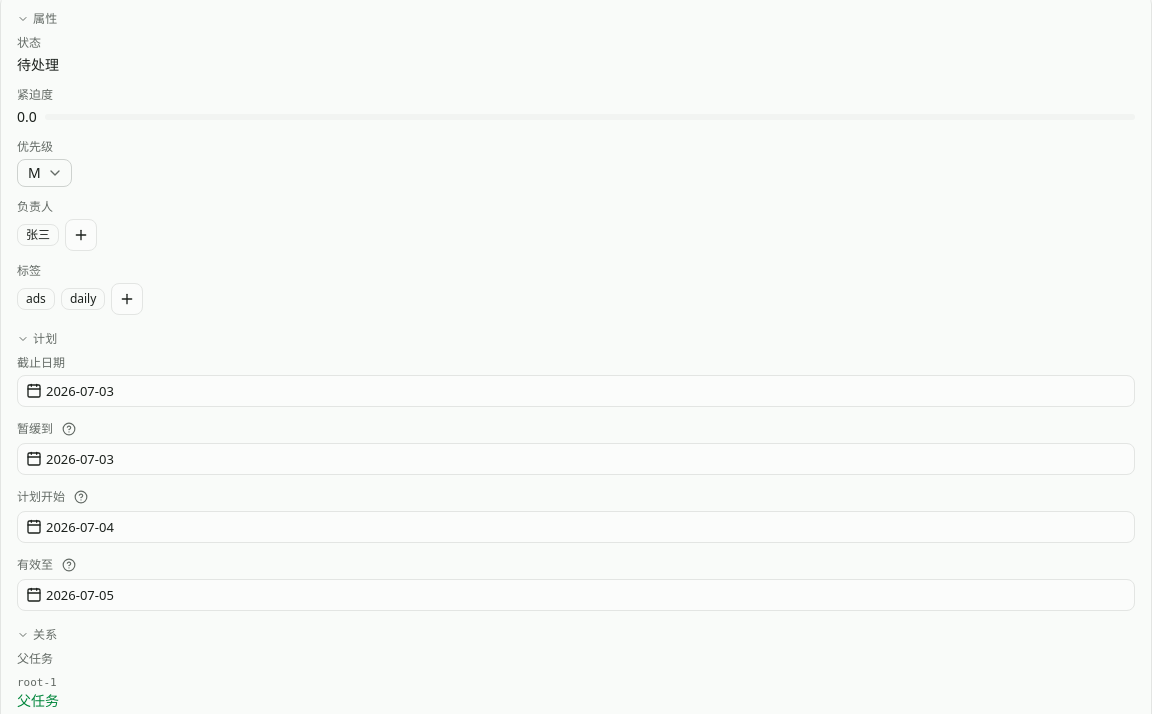
Test case: TaskPropertyPanel › uses product vocabulary, localized status, field help, and visual recurrence
Expected: the text "待处理" is shown, [17,55,59,74]
Expected: the text "暂缓到" is shown, [17,421,53,437]
Click the button named "说明：有效至".
click(69, 565)  # box [59,555,79,575]
(page scrolled)
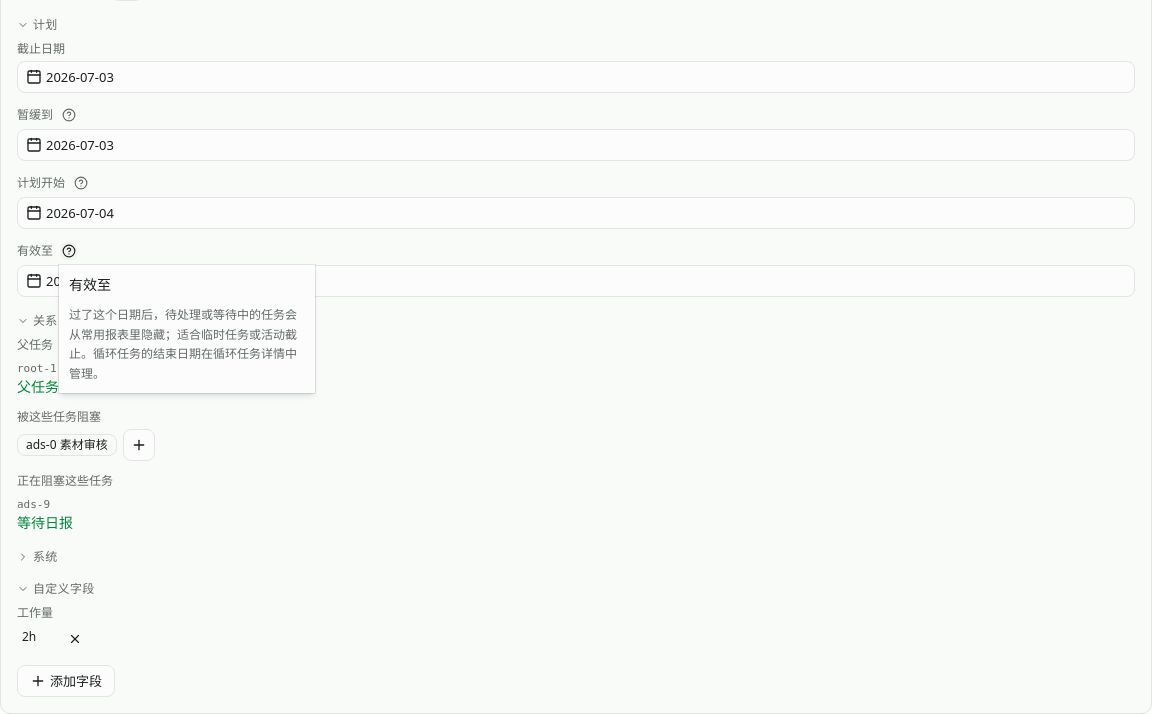
Expected: the text "被这些任务阻塞" is shown, [17,409,101,425]
Now the text "过了这个日期后，待处理或等待中的任务会从常用报表里隐藏；适合临时任务或活动截止。循环任务的结束日期在循环任务详情中管理。" is shown, box [69,305,305,383]
